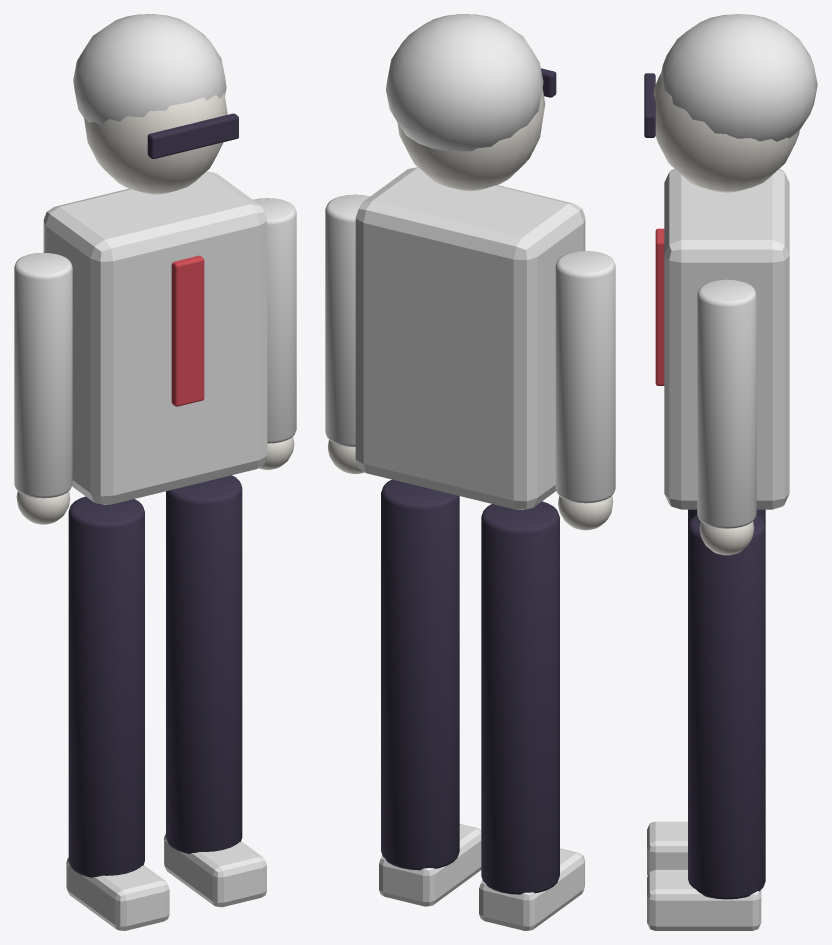
File: SM_NPC_AnhBay.fbx
3 views of the same model, side by side, from view 1: azimuth 30°, elevation 25°; view 2: azimuth 150°, elevation 25°; view 3: azimuth 270°, elevation 25° (orthographic). The views are drawn at different scales.
Parts seen in each view (by area): view 1: Torso.001, LegL.001, LegR.001, Head.001, ArmL.001, ArmR.001; view 2: Torso.001, LegL.001, LegR.001, Head.001, ArmL.001, ArmR.001; view 3: LegR.001, Torso.001, Head.001, ArmR.001, LegL.001.
Part boxes in pixels (left/top/right/bottom): Torso.001: left=43, top=171, right=267, bottom=504; LegL.001: left=66, top=496, right=169, bottom=930; LegR.001: left=164, top=475, right=266, bottom=907; Head.001: left=73, top=14, right=238, bottom=194; ArmL.001: left=14, top=252, right=72, bottom=524; ArmR.001: left=253, top=198, right=296, bottom=469; Torso.001: left=355, top=167, right=585, bottom=509; LegL.001: left=479, top=501, right=584, bottom=930; LegR.001: left=379, top=479, right=481, bottom=906; Head.001: left=386, top=14, right=556, bottom=190; ArmL.001: left=555, top=251, right=615, bottom=530; ArmR.001: left=325, top=194, right=369, bottom=473; LegR.001: left=647, top=514, right=765, bottom=930; Torso.001: left=655, top=169, right=789, bottom=509; Head.001: left=644, top=14, right=817, bottom=192; ArmR.001: left=697, top=279, right=756, bottom=555; LegL.001: left=647, top=509, right=765, bottom=875.
Size of the model in its own units: 0.564 by 1.69 by 0.3042.
